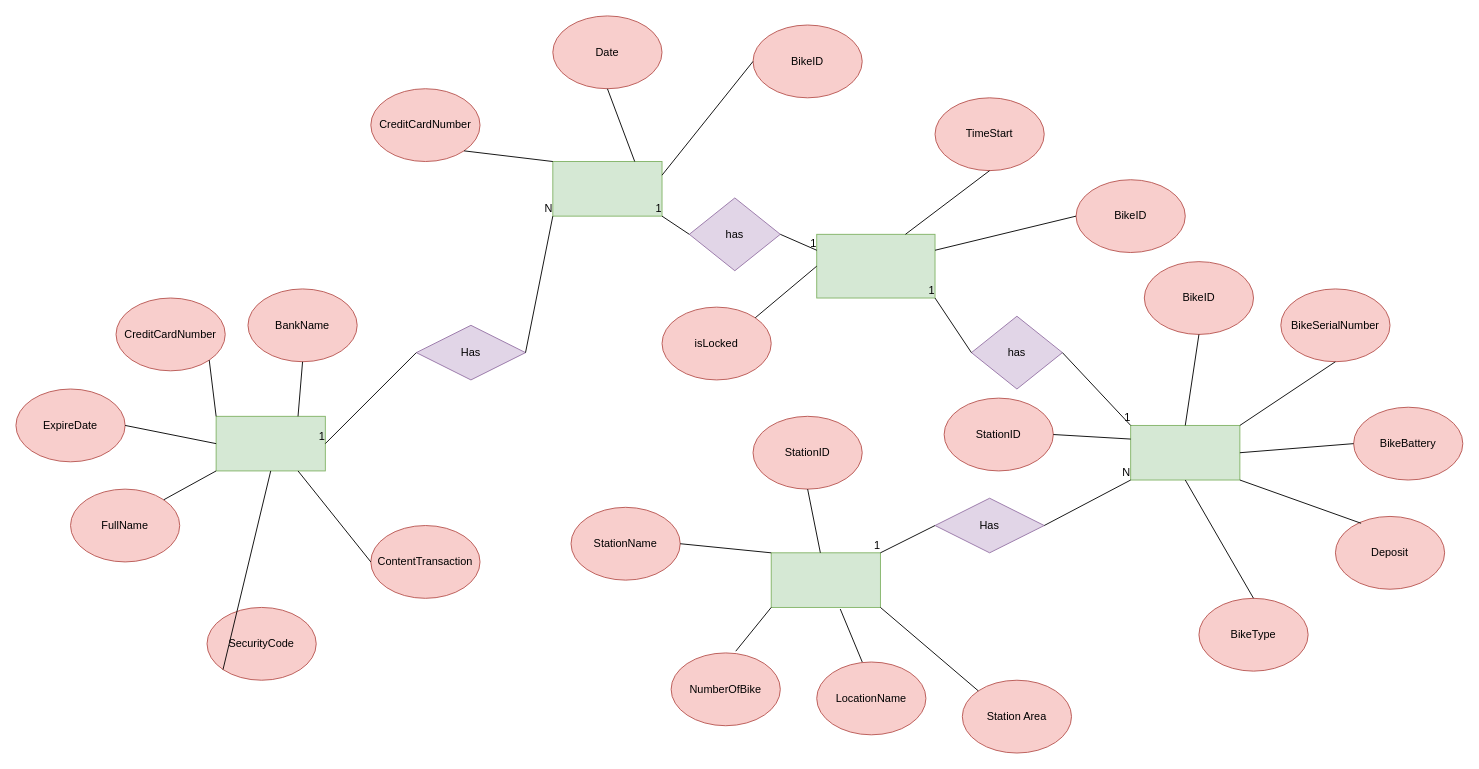
This 1479x769 diagram has some shape labels left out. Here are the shapes that lost their labels. From the top down, the centre of each, then its label:
(607,188): Transaction
(875,265): RentingBike
(270,443): Card
(1185,452): BikeInStation
(825,579): BikeStation
